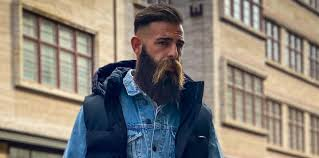b.y: (150, 58, 182, 107)
